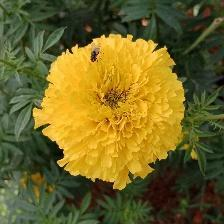marigold: (44, 40, 193, 188)
